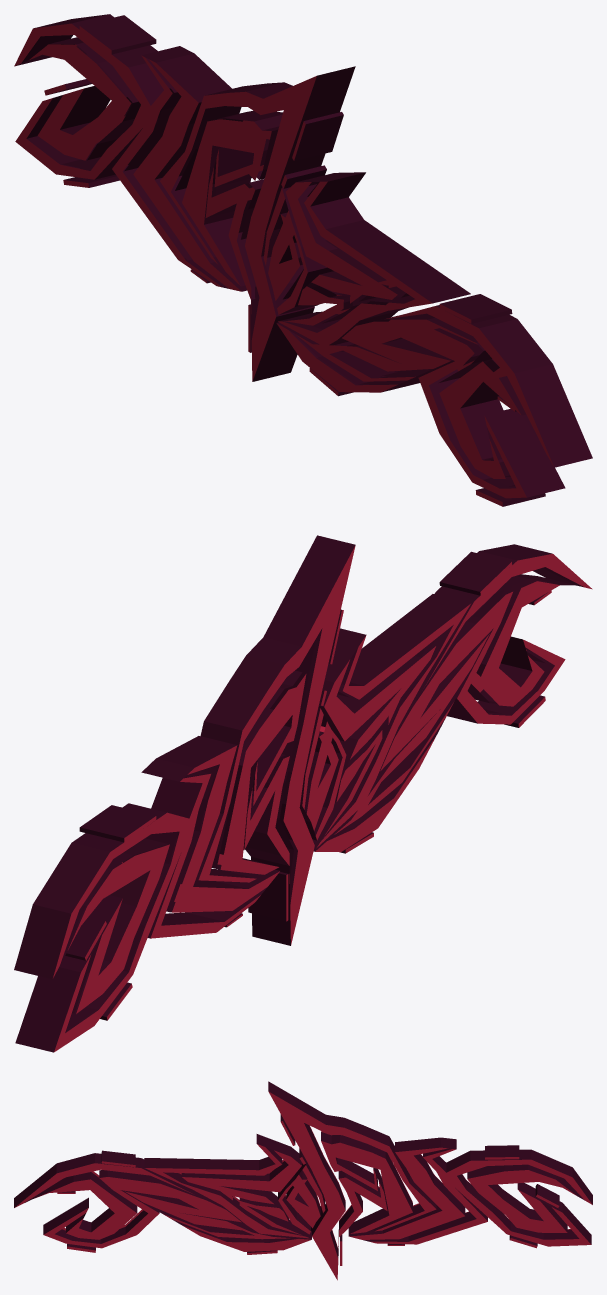
File: YOŁ.gltf
The picture shows the model from 3 angles, top to bottom: view 1: azimuth 30°, elevation 25°; view 2: azimuth 150°, elevation 25°; view 3: azimuth 270°, elevation 25°; orthographic projection. The views are drawn at different scales.
Visible parts, largest first — view 1: Cube.008; view 2: Cube.008; view 3: Cube.008.
Part boxes in pixels (x1,y1,x2,y2): Cube.008: (14, 14, 592, 506); Cube.008: (14, 535, 592, 1052); Cube.008: (14, 1081, 592, 1280).
Bounding box in the file's own units: 2.23 × 16.96 × 46.95.
